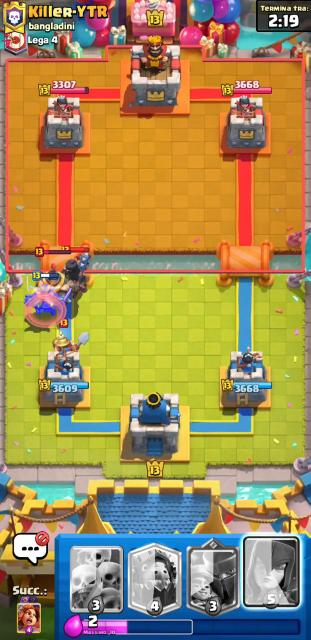ally_tank: (24, 271, 72, 317)
enemy_melee: (62, 248, 92, 300), (53, 319, 89, 352)
enemy_tank: (35, 248, 73, 304)
